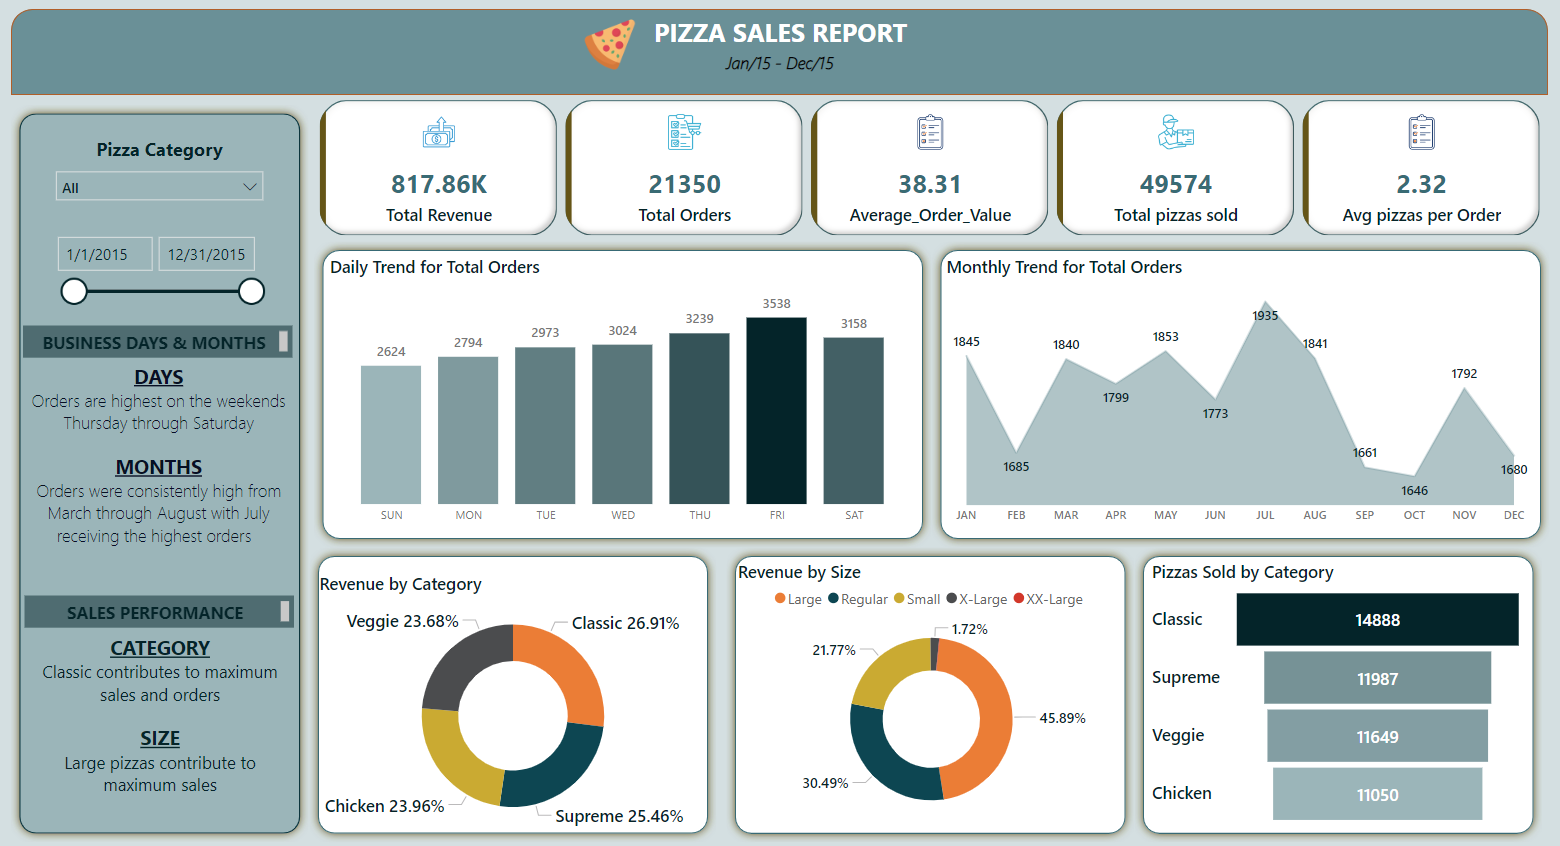

This screenshot's page, from the dashboard's own definition file:
{"tool":"powerbi","page":{"name":"Page 1","canvas":[1500,820],"ordinal":0},"visuals":[{"type":"shape","box":[17.3,14.2,1463.8,81.9],"z":0},{"type":"cardVisual","fields":{"Data":["DAX Calculations.Total Revenue","DAX Calculations.Total Orders","DAX Calculations.Average_Order_Value","DAX Calculations.Total pizzas sold","DAX Calculations.Avg pizzas per Order"]},"box":[306.3,96.4,1175.5,139.9],"z":1000},{"type":"textbox","box":[617.3,14,265.9,45.1],"z":2000},{"type":"textbox","box":[664.9,48.8,170.2,31.5],"z":3000},{"type":"image","box":[556.7,17.1,60.6,62.2],"z":4000},{"type":"shape","box":[305.9,235.7,588,291.4],"z":5000},{"type":"columnChart","title":"Daily Trend for Total Orders","fields":{"Category":["pizza_sales.Order Day"],"Y":["DAX Calculations.Total Orders"]},"box":[315.2,249,568.1,264.9],"z":6000},{"type":"shape","box":[893.9,235.7,588,291.4],"z":7000},{"type":"areaChart","title":"Monthly Trend for Total Orders","fields":{"Category":["pizza_sales.Order Month"],"Y":["DAX Calculations.Total Orders"]},"box":[903.2,249,569.5,264.9],"z":8000},{"type":"shape","box":[300.9,527.8,387.6,280.5],"z":9000},{"type":"shape","box":[699.2,527.1,388,280.8],"z":10000},{"type":"shape","box":[1087.3,527.1,388,280.8],"z":11000},{"type":"donutChart","title":"Revenue by Category","fields":{"Category":["pizza_sales.pizza_category"],"Y":["DAX Calculations.Total Revenue"]},"box":[305.7,549.9,378.2,258.4],"z":12000},{"type":"donutChart","title":"Revenue by Size","fields":{"Y":["DAX Calculations.Total Revenue"],"Category":["pizza_sales.pizza_size"]},"box":[704.3,538.9,378.2,258.4],"z":13000},{"type":"funnel","title":"Pizzas Sold by Category","fields":{"Category":["pizza_sales.pizza_category"],"Y":["DAX Calculations.Total pizzas sold"]},"box":[1097.9,539,364.2,258.2],"z":14000},{"type":"shape","box":[17.2,105.9,283.4,701.9],"z":14500},{"type":"slicer","title":"Pizza Category","fields":{"Values":["pizza_sales.pizza_category"]},"box":[50.3,135.1,217.2,63.6],"z":15000},{"type":"slicer","title":"Date","fields":{"Values":["pizza_sales.order_date"]},"box":[49,221.2,218.5,82.1],"z":16000},{"type":"textbox","box":[29.1,345.6,258.2,203.9],"z":16001},{"type":"textbox","box":[30.5,603.9,258.2,173.5],"z":16002},{"type":"textbox","box":[29.1,315.2,256.9,30.5],"z":16003},{"type":"textbox","box":[30.5,573.4,256.9,30.5],"z":16004}]}

Visuals, with their boxes in screenshot pixels (x1, y1, x2, y2), scaled from the page's 1500x820 canvas onto the 1560x846 screenshot:
shape: pyautogui.locateOnScreen(18, 15, 1540, 99)
cardVisual - DAX Calculations.Total Revenue x DAX Calculations.Total Orders: pyautogui.locateOnScreen(319, 99, 1541, 244)
textbox: pyautogui.locateOnScreen(642, 14, 919, 61)
textbox: pyautogui.locateOnScreen(691, 50, 869, 83)
image: pyautogui.locateOnScreen(579, 18, 642, 82)
shape: pyautogui.locateOnScreen(318, 243, 930, 544)
"Daily Trend for Total Orders" columnChart: pyautogui.locateOnScreen(328, 257, 919, 530)
shape: pyautogui.locateOnScreen(930, 243, 1541, 544)
"Monthly Trend for Total Orders" areaChart: pyautogui.locateOnScreen(939, 257, 1532, 530)
shape: pyautogui.locateOnScreen(313, 545, 716, 834)
shape: pyautogui.locateOnScreen(727, 544, 1131, 834)
shape: pyautogui.locateOnScreen(1131, 544, 1534, 834)
"Revenue by Category" donutChart: pyautogui.locateOnScreen(318, 567, 711, 834)
"Revenue by Size" donutChart: pyautogui.locateOnScreen(732, 556, 1126, 823)
"Pizzas Sold by Category" funnel: pyautogui.locateOnScreen(1142, 556, 1521, 822)
shape: pyautogui.locateOnScreen(18, 109, 313, 833)
"Pizza Category" slicer: pyautogui.locateOnScreen(52, 139, 278, 205)
"Date" slicer: pyautogui.locateOnScreen(51, 228, 278, 313)
textbox: pyautogui.locateOnScreen(30, 357, 299, 567)
textbox: pyautogui.locateOnScreen(32, 623, 300, 802)
textbox: pyautogui.locateOnScreen(30, 325, 297, 357)
textbox: pyautogui.locateOnScreen(32, 592, 299, 623)
